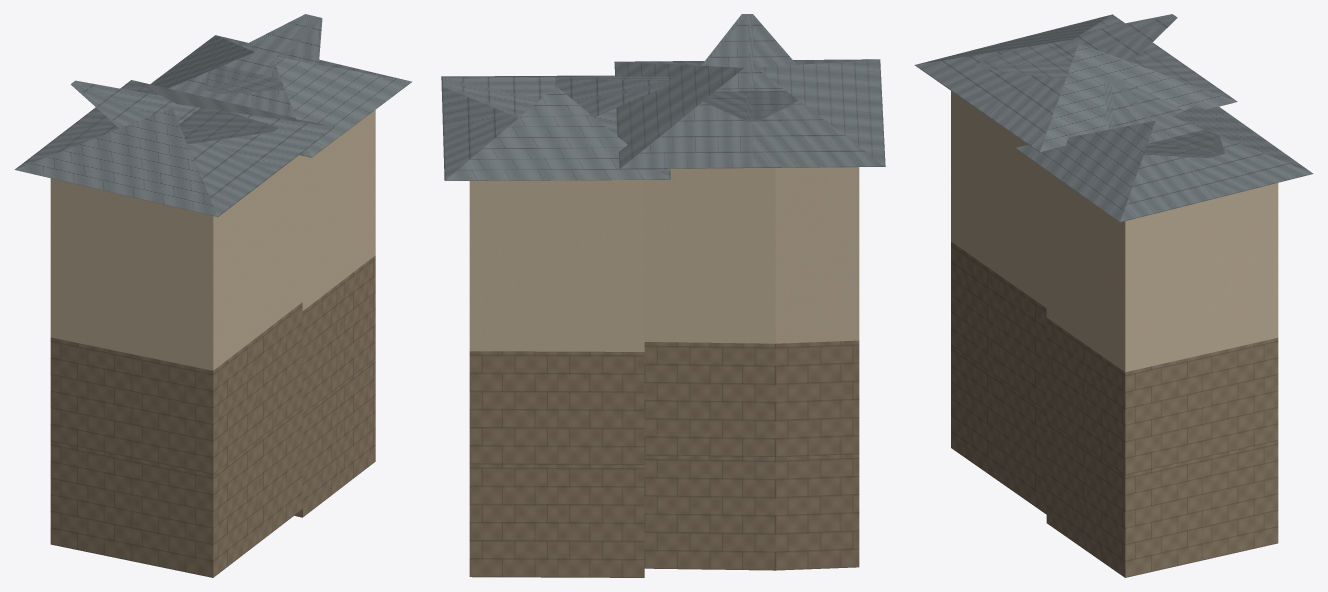
File: bld_c15_26_390.gltf
The picture shows the model from 3 angles, left to right: view 1: azimuth 30°, elevation 25°; view 2: azimuth 150°, elevation 25°; view 3: azimuth 270°, elevation 25°; orthographic projection. The views are drawn at different scales.
Visible parts, largest first — view 1: bld_c15_26_390; view 2: bld_c15_26_390; view 3: bld_c15_26_390.
Part boxes in pixels (x1,y1,x2,y2): bld_c15_26_390: [14, 14, 412, 577]; bld_c15_26_390: [441, 14, 885, 577]; bld_c15_26_390: [914, 14, 1313, 577].
Size of the model in its own units: 9.91 by 10.1 by 8.56.
Materials: 3 (3 with a texture image).
